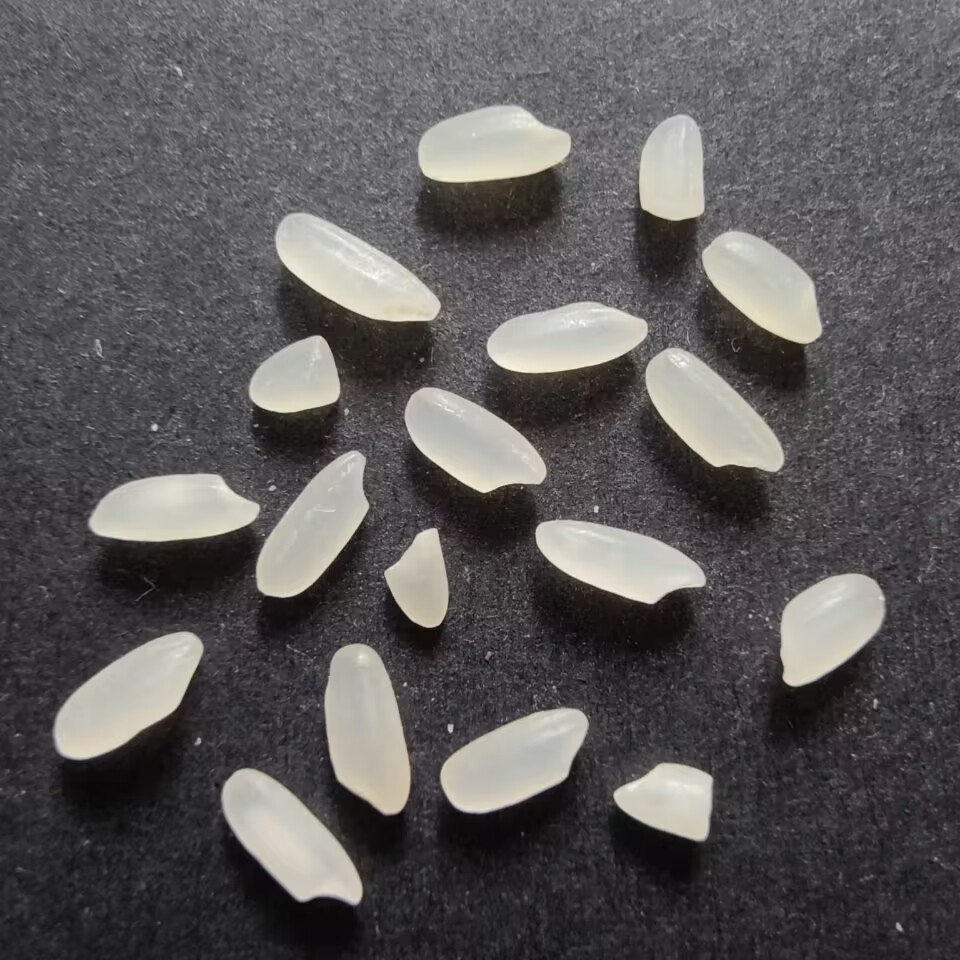broken: (776, 569, 891, 691), (607, 762, 718, 844), (247, 332, 344, 419), (634, 111, 706, 224), (379, 522, 451, 633)
rice: (51, 625, 207, 766), (218, 764, 364, 911), (269, 207, 442, 328), (643, 348, 787, 476), (252, 447, 372, 599), (437, 703, 589, 817), (399, 380, 547, 496), (530, 514, 711, 608), (318, 641, 411, 817), (701, 229, 826, 348), (413, 100, 580, 185), (86, 468, 263, 545), (482, 298, 650, 374)
